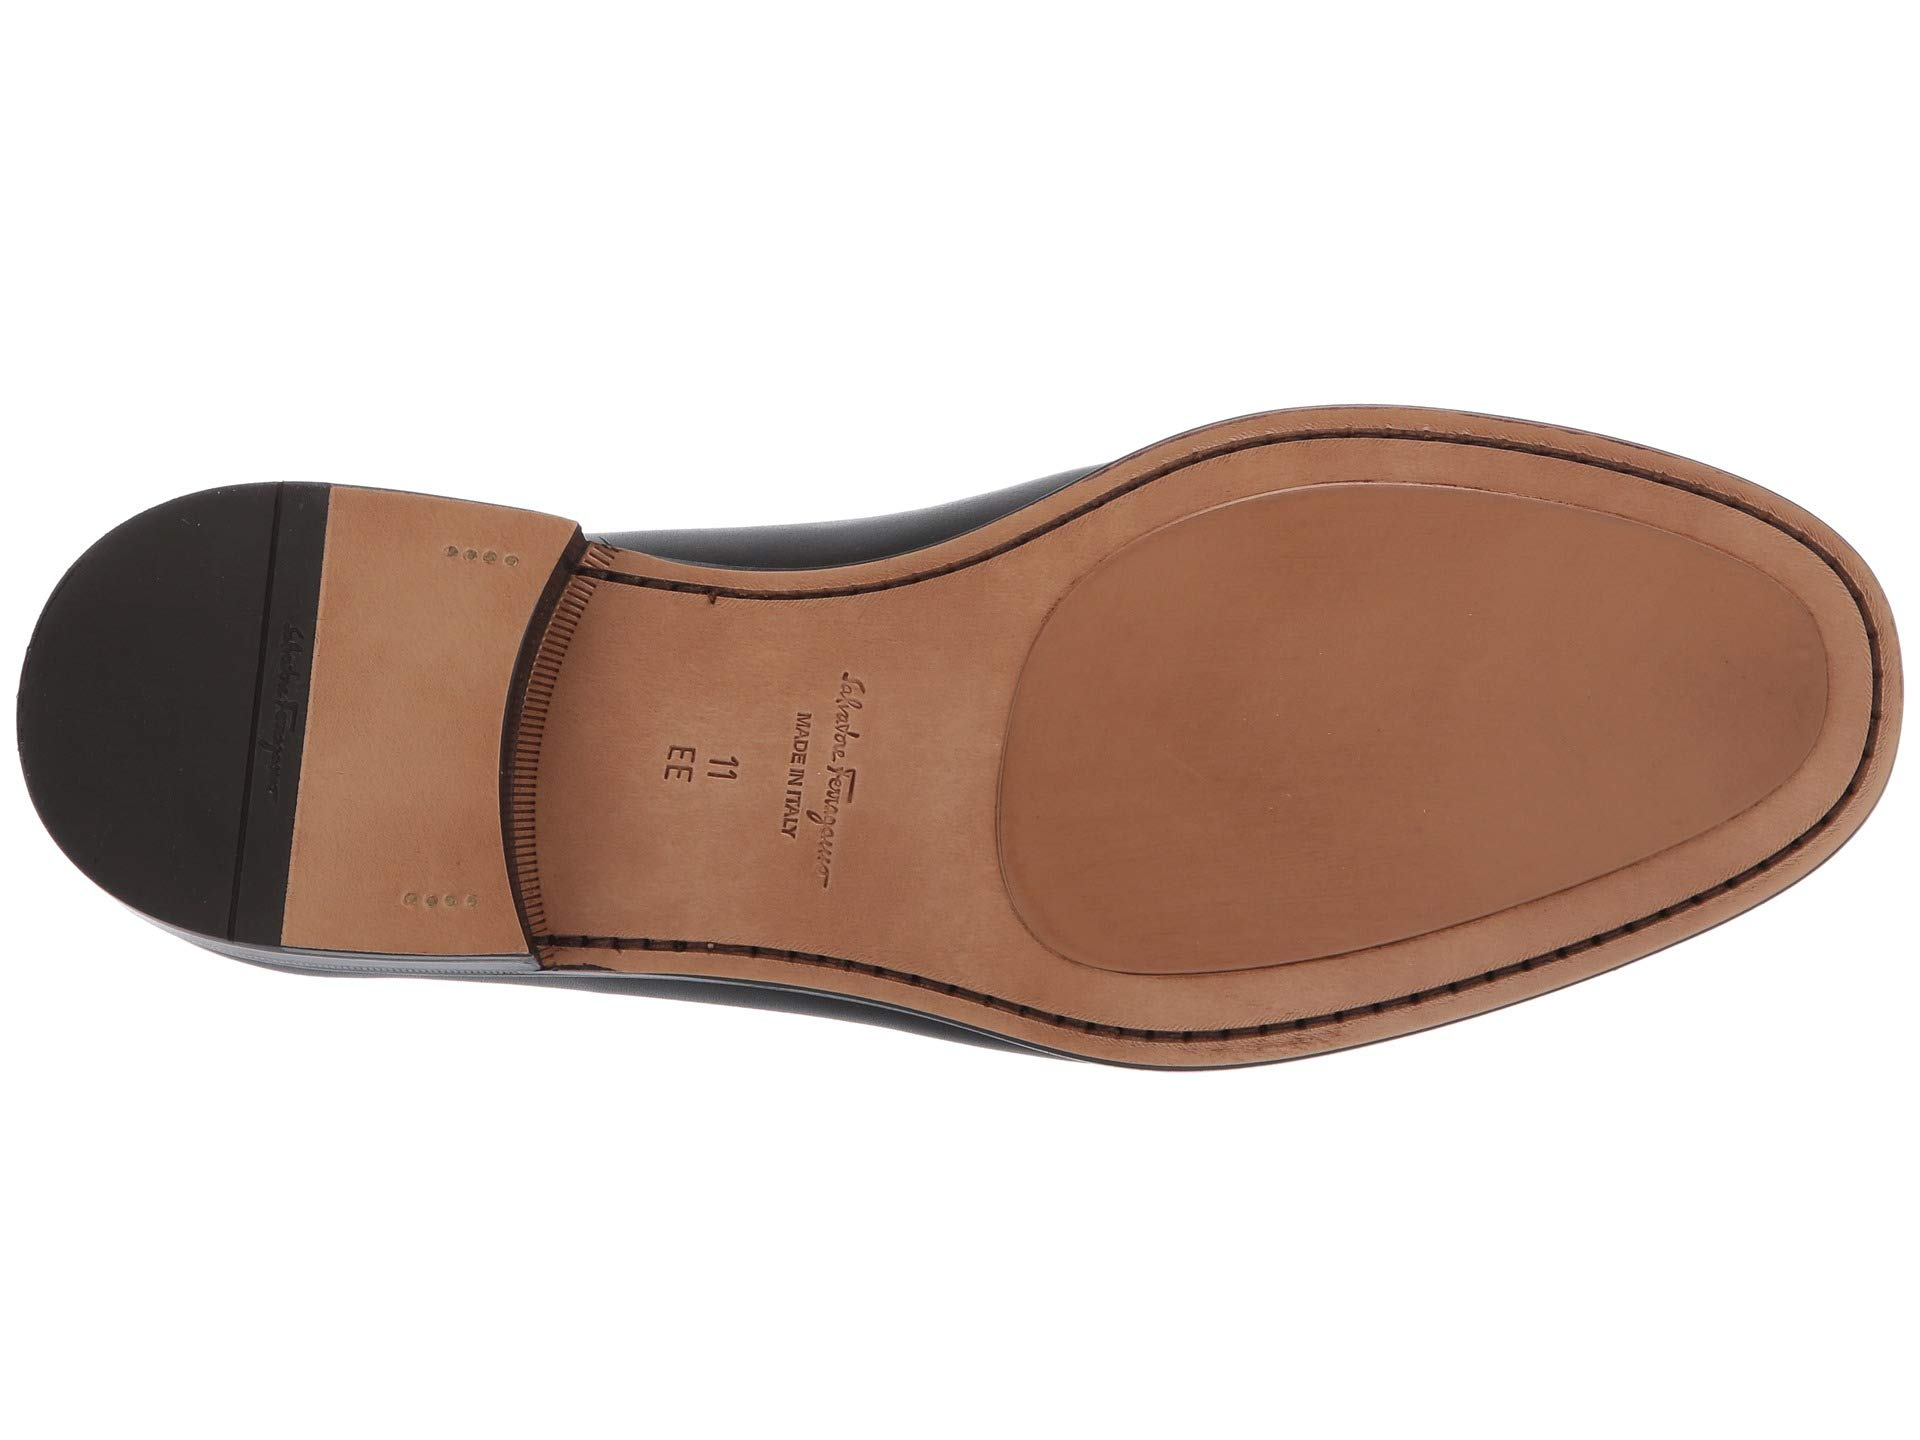text: (627, 681, 771, 850)
